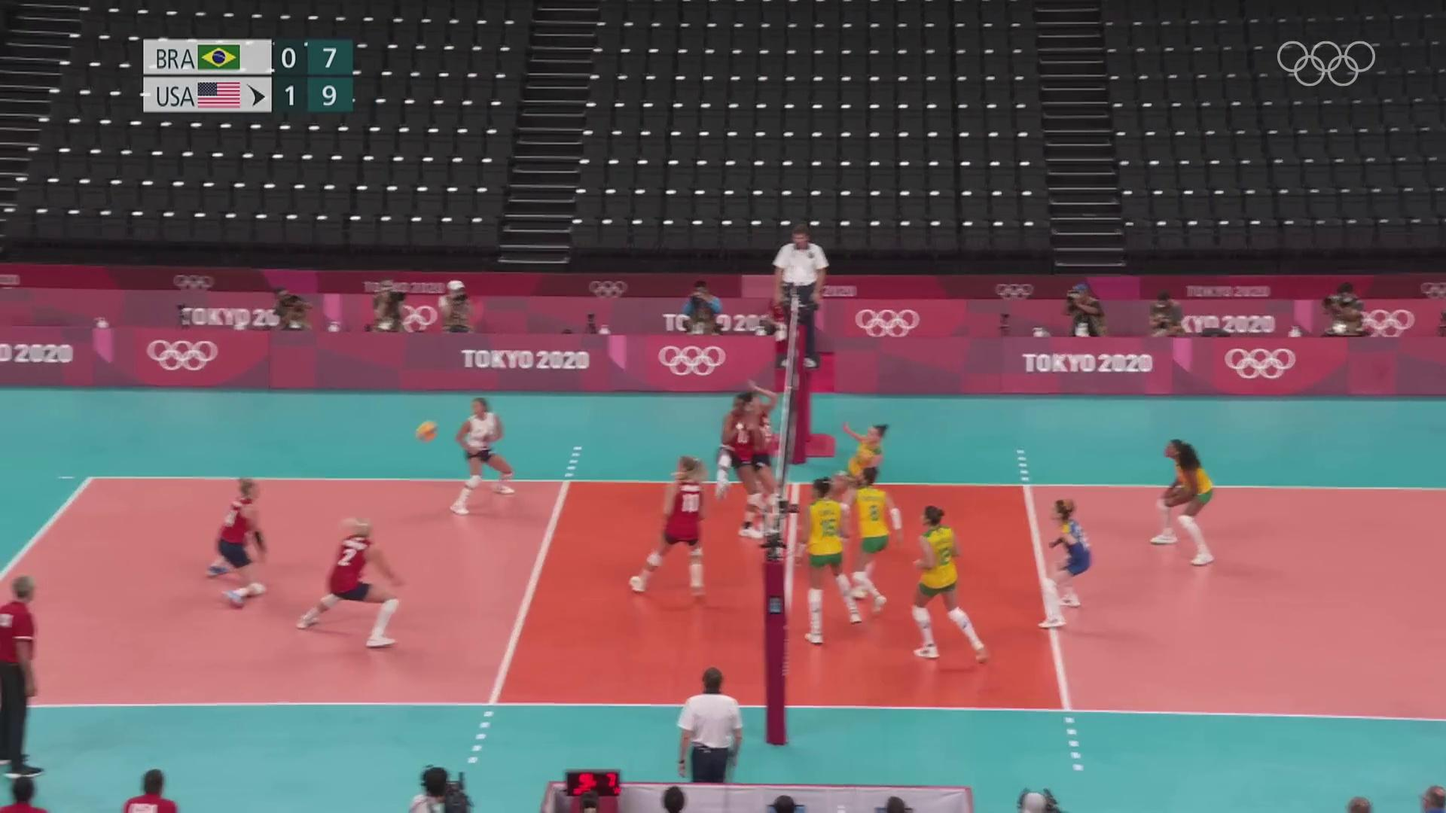player: (299, 516, 407, 646), (907, 505, 990, 663), (623, 457, 710, 601), (799, 474, 861, 643), (205, 476, 272, 607), (1151, 438, 1220, 564), (843, 467, 903, 611), (824, 422, 889, 548), (451, 398, 519, 514), (1039, 496, 1094, 631), (717, 390, 761, 538), (744, 383, 782, 537)
refree: (679, 670, 745, 788), (775, 224, 828, 368)
